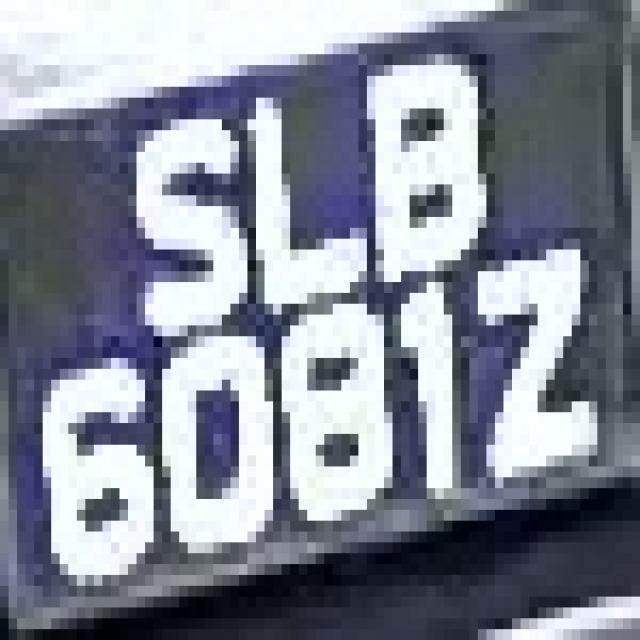0: (136, 347, 282, 553)
1: (384, 271, 486, 521)
6: (26, 326, 162, 618)
8: (256, 293, 393, 531)
B: (358, 32, 504, 293)
L: (214, 65, 376, 315)
S: (102, 65, 248, 347)
Z: (461, 217, 614, 521)
